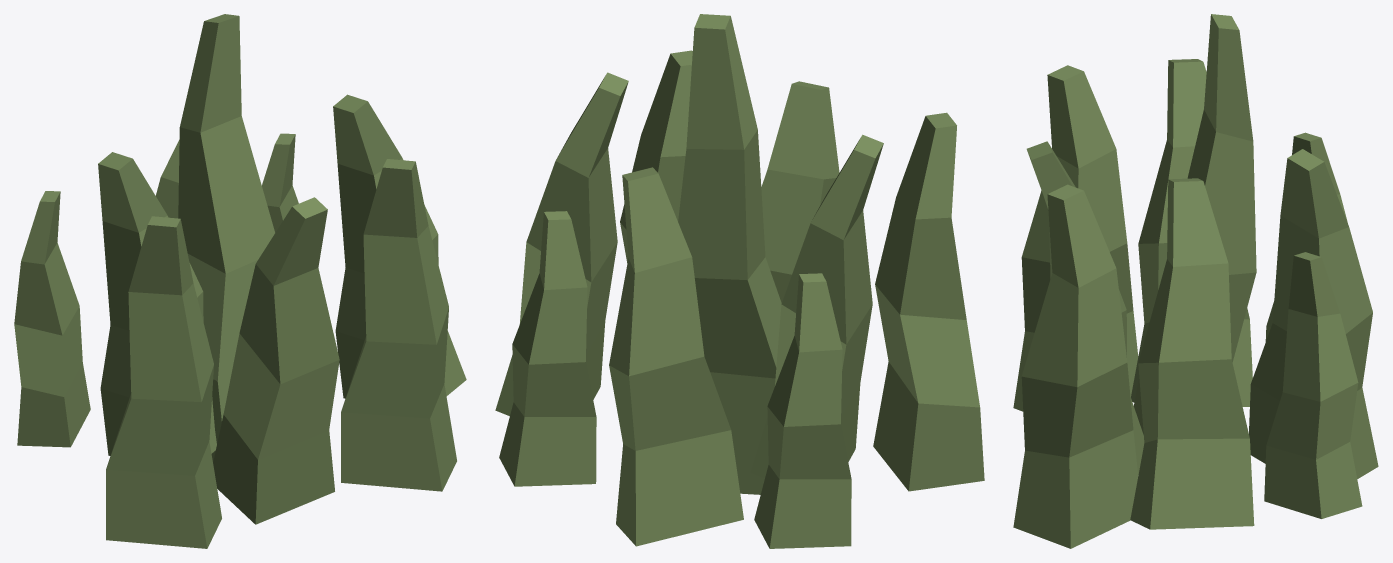
File: grass.glb
3 renders of one model, left to right at view 1: azimuth 30°, elevation 25°; view 2: azimuth 150°, elevation 25°; view 3: azimuth 270°, elevation 25°, orthographic. The views are drawn at different scales.
Parts seen in each view (by area): view 1: grass; view 2: grass; view 3: grass.
Boxes of the visible parts, x1=… form: grass: x1=14, y1=14, x2=466, y2=548; grass: x1=495, y1=14, x2=984, y2=548; grass: x1=1013, y1=14, x2=1378, y2=548.
Size of the model in its own units: 0.3627 by 0.3902 by 0.2811.
